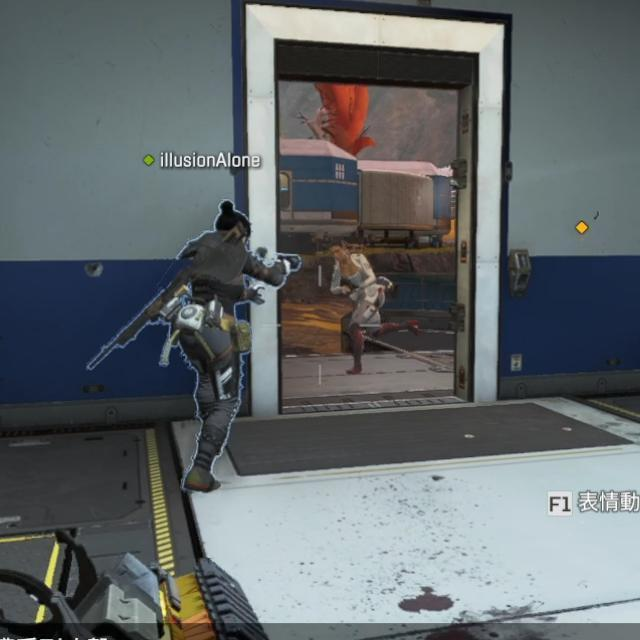avatar: (128, 199, 290, 495), (325, 234, 385, 377)
